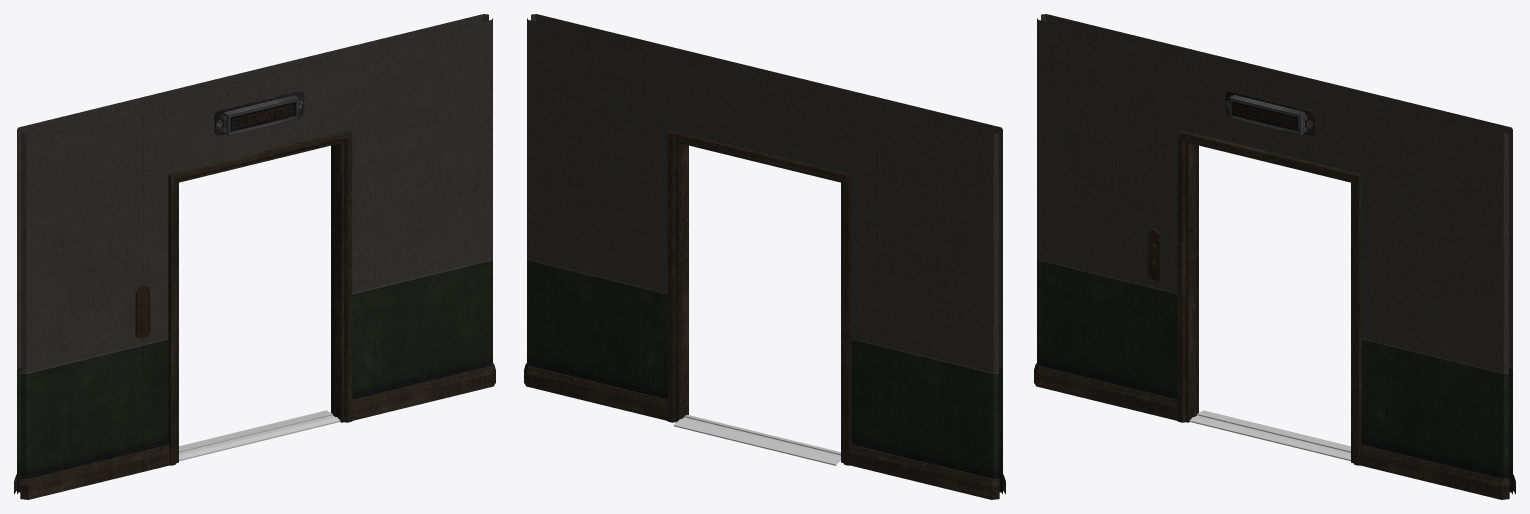
The model's file is elevator_doorway_2.obj.
The picture shows the model from 3 angles, left to right: view 1: azimuth 30°, elevation 25°; view 2: azimuth 150°, elevation 25°; view 3: azimuth 330°, elevation 25°; orthographic projection.
Visible parts, largest first — view 1: elevator_doorway_2; view 2: elevator_doorway_2; view 3: elevator_doorway_2.
Part boxes in pixels (box(x1,y1,x2,y2)): elevator_doorway_2: box(14, 14, 495, 499); elevator_doorway_2: box(524, 14, 1005, 499); elevator_doorway_2: box(1034, 14, 1515, 499).
Bounding box in the file's own units: 4.09 × 3 × 0.29.
